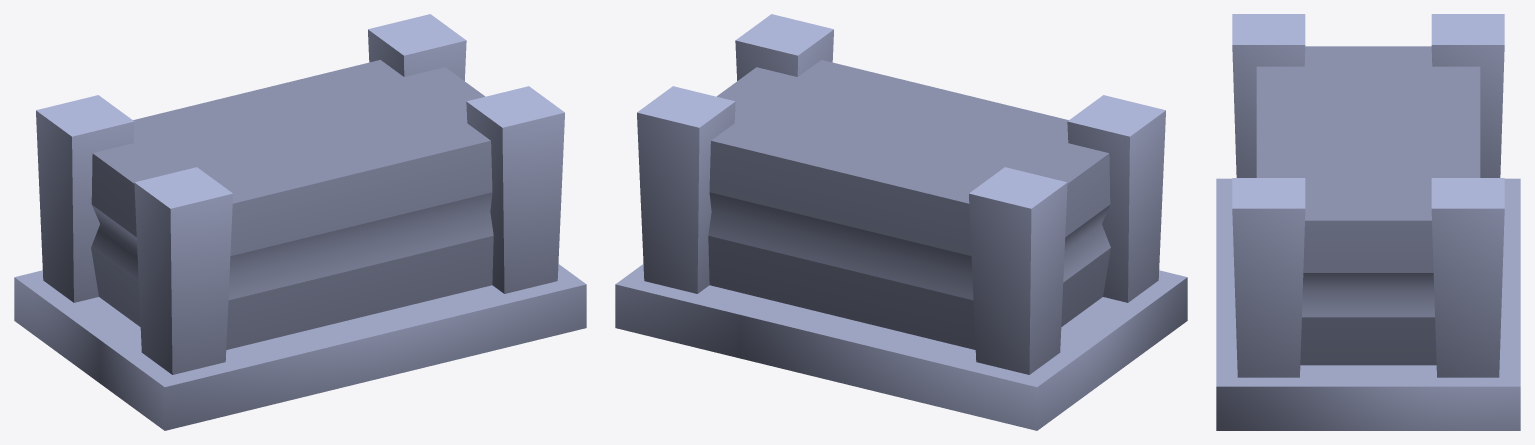
Rendered from cc0-altar-stone-lod1.glb.
3 views of the same model, side by side, from view 1: azimuth 30°, elevation 25°; view 2: azimuth 150°, elevation 25°; view 3: azimuth 270°, elevation 25° (orthographic).
Parts seen in each view (by area): view 1: part_0; view 2: part_0; view 3: part_0.
Boxes of the visible parts, <box> form: part_0: <box>14,14,586,430</box>; part_0: <box>615,14,1187,430</box>; part_0: <box>1216,14,1520,430</box>.
Size of the model in its own units: 1.01 by 0.4876 by 0.6239.
Materials: 1 (1 with a texture image).
